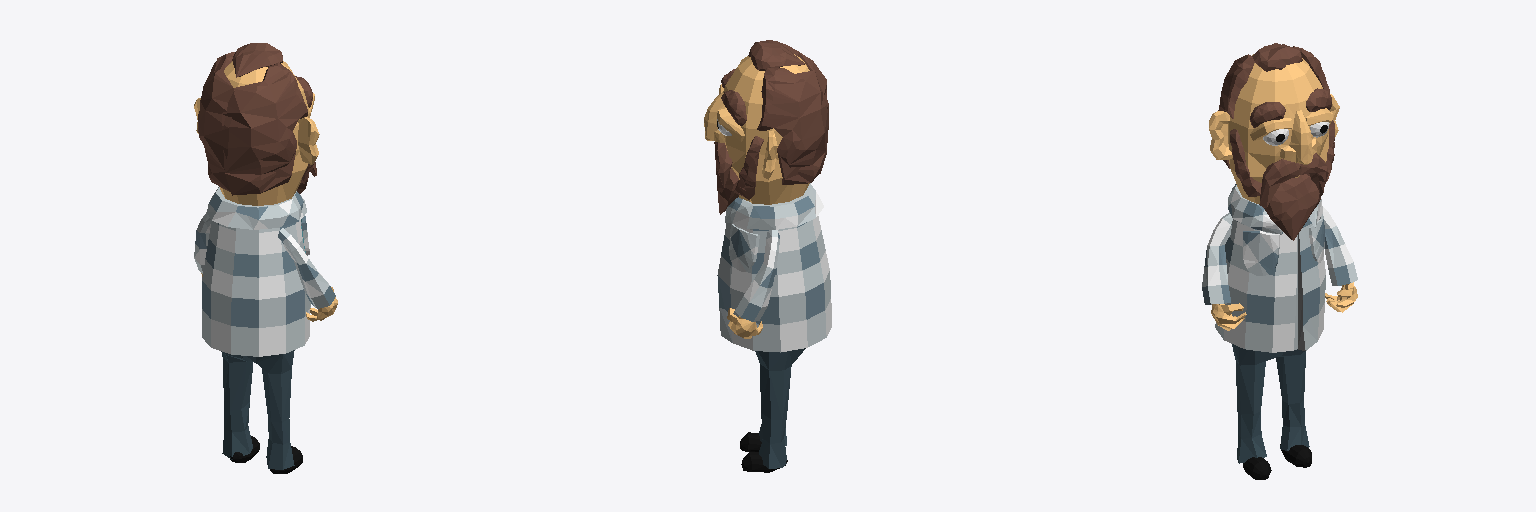
Rendered from teacher_1.obj.
The picture shows the model from 3 angles: view 1: azimuth 30°, elevation 25°; view 2: azimuth 150°, elevation 25°; view 3: azimuth 270°, elevation 25°; orthographic projection.
Visible parts, largest first — view 1: mesh[number redacted], mesh[number redacted], mesh[number redacted], mesh[number redacted], mesh[number redacted], mesh[number redacted], mesh[number redacted], mesh[number redacted], mesh[number redacted], mesh[number redacted], mesh[number redacted]; view 2: mesh[number redacted], mesh[number redacted], mesh[number redacted], mesh[number redacted], mesh[number redacted], mesh[number redacted], mesh[number redacted], mesh[number redacted], mesh[number redacted], mesh[number redacted], mesh[number redacted], mesh[number redacted]; view 3: mesh[number redacted], mesh[number redacted], mesh[number redacted], mesh[number redacted], mesh[number redacted], mesh[number redacted], mesh[number redacted], mesh[number redacted], mesh[number redacted], mesh[number redacted], mesh[number redacted], mesh[number redacted] (+7 smaller).
Boxes of the visible parts, box(x1,y1,x2,y2) form: mesh[number redacted]: box(202, 220, 310, 356); mesh[number redacted]: box(222, 62, 307, 195); mesh[number redacted]: box(198, 52, 234, 191); mesh[number redacted]: box(243, 350, 294, 469); mesh[number redacted]: box(221, 351, 252, 459); mesh[number redacted]: box(207, 187, 306, 229); mesh[number redacted]: box(220, 61, 309, 205); mesh[number redacted]: box(278, 228, 335, 308); mesh[number redacted]: box(232, 43, 282, 77); mesh[number redacted]: box(298, 117, 319, 164); mesh[number redacted]: box(194, 212, 211, 273); mesh[number redacted]: box(717, 216, 831, 352); mesh[number redacted]: box(757, 68, 828, 184); mesh[number redacted]: box(704, 54, 809, 204); mesh[number redacted]: box(755, 348, 805, 468); mesh[number redacted]: box(725, 183, 823, 229); mesh[number redacted]: box(735, 230, 779, 321); mesh[number redacted]: box(748, 40, 804, 70); mesh[number redacted]: box(729, 224, 759, 271); mesh[number redacted]: box(734, 136, 763, 199); mesh[number redacted]: box(727, 308, 762, 338); mesh[number redacted]: box(715, 142, 732, 192); mesh[number redacted]: box(721, 90, 746, 125); mesh[number redacted]: box(1215, 218, 1325, 352); mesh[number redacted]: box(1228, 54, 1328, 203); mesh[number redacted]: box(1232, 344, 1282, 463); mesh[number redacted]: box(1276, 349, 1309, 450); mesh[number redacted]: box(1264, 174, 1320, 240); mesh[number redacted]: box(1202, 212, 1232, 304); mesh[number redacted]: box(1323, 207, 1357, 285); mesh[number redacted]: box(1243, 231, 1279, 275); mesh[number redacted]: box(1228, 184, 1322, 234); mesh[number redacted]: box(1218, 54, 1254, 168); mesh[number redacted]: box(1259, 159, 1300, 207); mesh[number redacted]: box(1252, 43, 1302, 71).
Bounding box in the file's own units: 0.3476 × 1.29 × 0.4314.